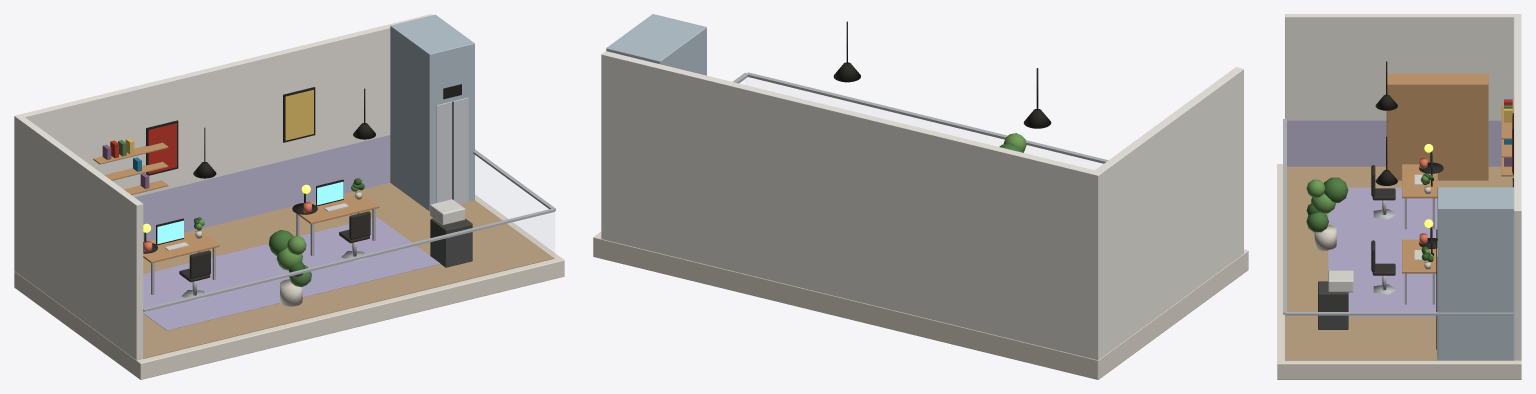
3 renders of one model, left to right at view 1: azimuth 30°, elevation 25°; view 2: azimuth 150°, elevation 25°; view 3: azimuth 270°, elevation 25°, orthographic. The views are drawn at different scales.
Visible parts, largest first — view 1: LM_P2, Cube.020, Cube.031; view 2: LM_P2; view 3: LM_P2.
Boxes of the visible parts, box(x1,y1,x2,y2) form: LM_P2: box(14, 14, 564, 379); Cube.020: box(157, 220, 183, 244); Cube.031: box(317, 181, 343, 205); LM_P2: box(593, 14, 1248, 379); LM_P2: box(1277, 14, 1521, 379).
Bounding box in the file's own units: 9.3 × 3.8 × 4.8.
